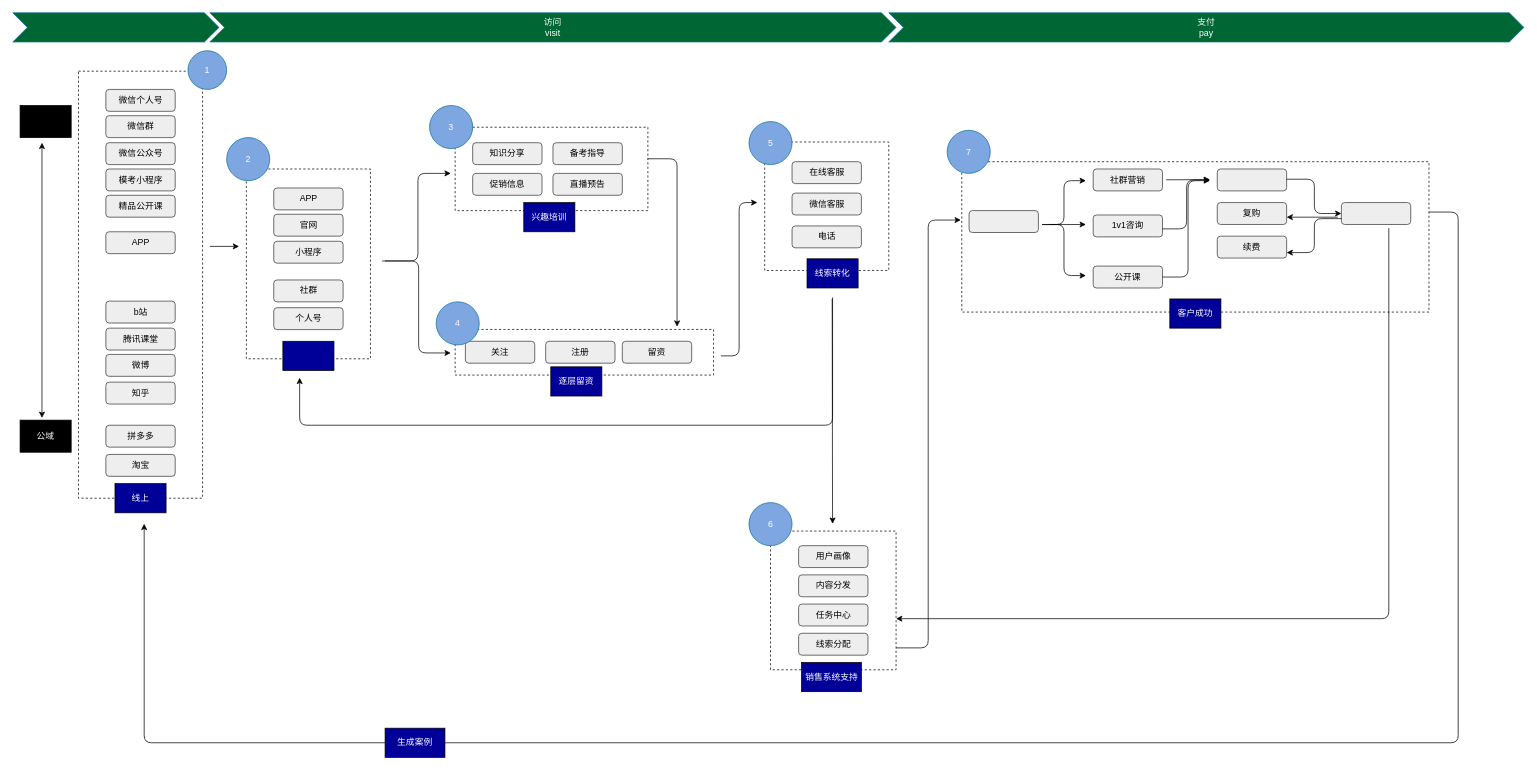
This 1537x770 diagram has some shape labels left out. Here are the shapes that lost their labels. From the top down, the centre of each, then its label:
the point at 115,27: 获客 leads
the point at 45,121: 私域
the point at 1252,179: 下单
the point at 1003,221: 销售支持
the point at 1376,213: 售后客服
the point at 308,355: 数字平台
